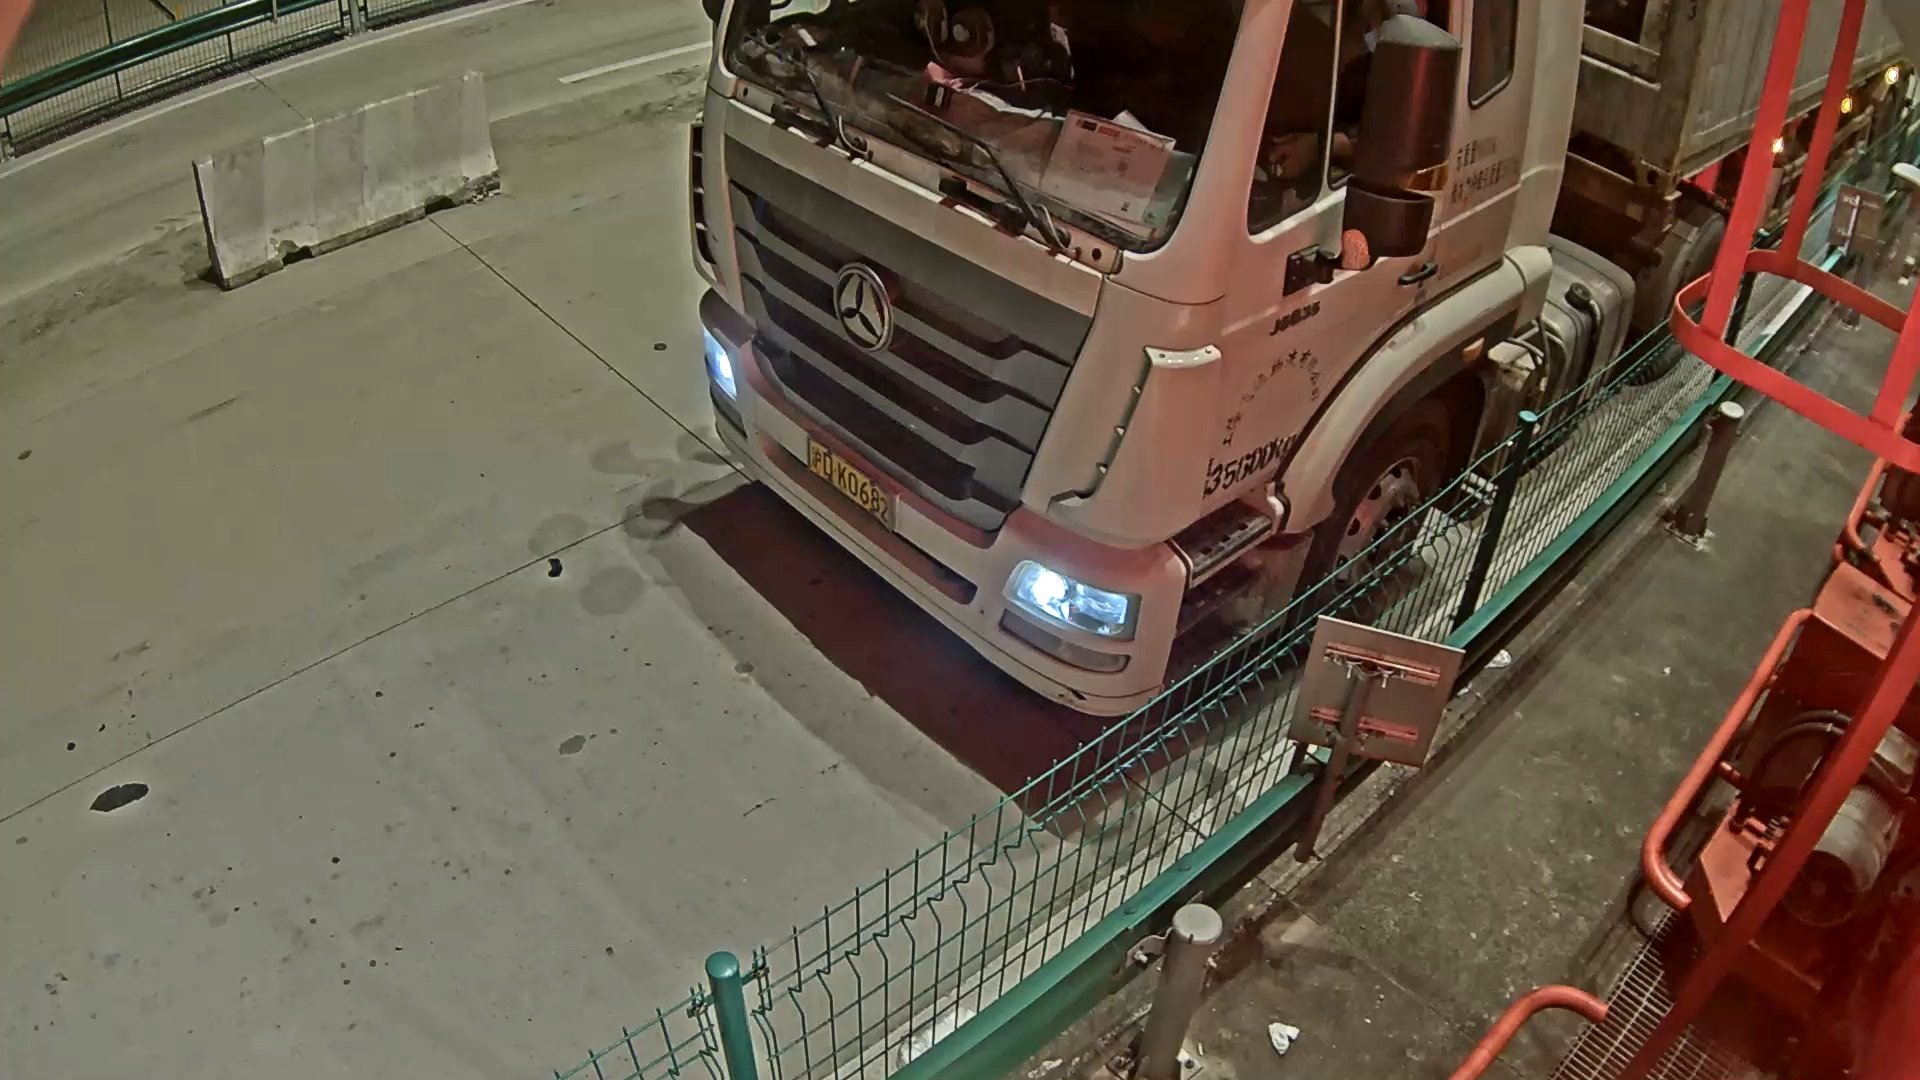head: (687, 14, 1297, 709)
plate: (783, 429, 920, 530)
